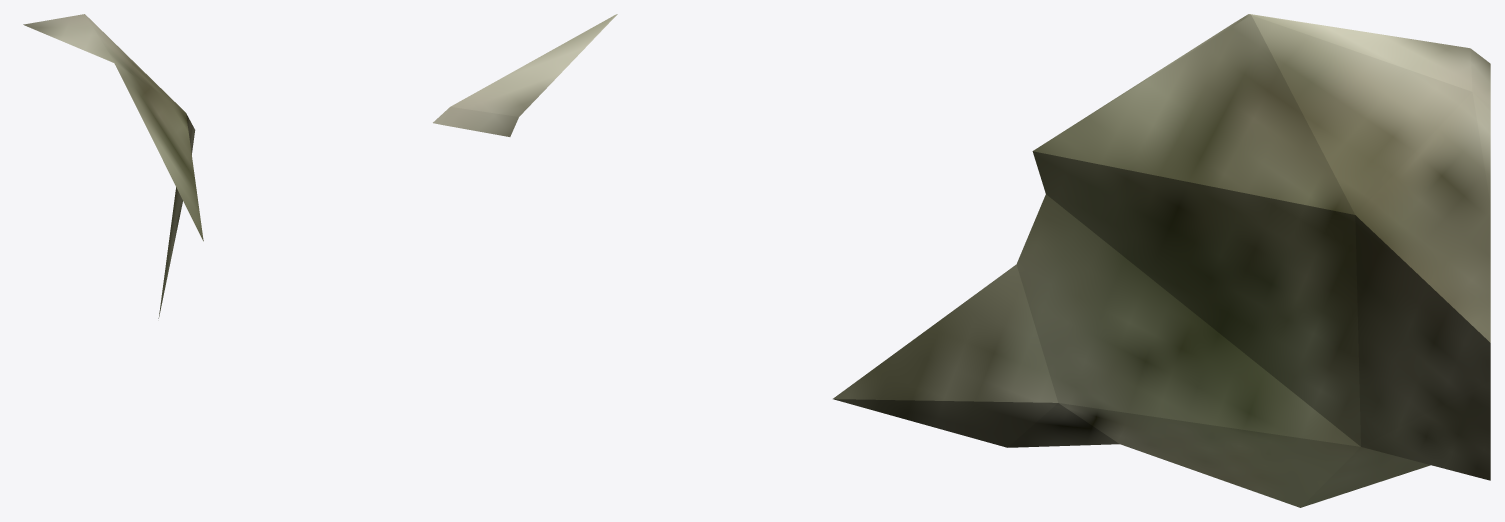
3 renders of one model, left to right at view 1: azimuth 30°, elevation 25°; view 2: azimuth 150°, elevation 25°; view 3: azimuth 270°, elevation 25°, orthographic. The views are drawn at different scales.
Size of the model in its own units: 0.0939 by 0.2026 by 0.2447.
Materials: 1 (1 with a texture image).
